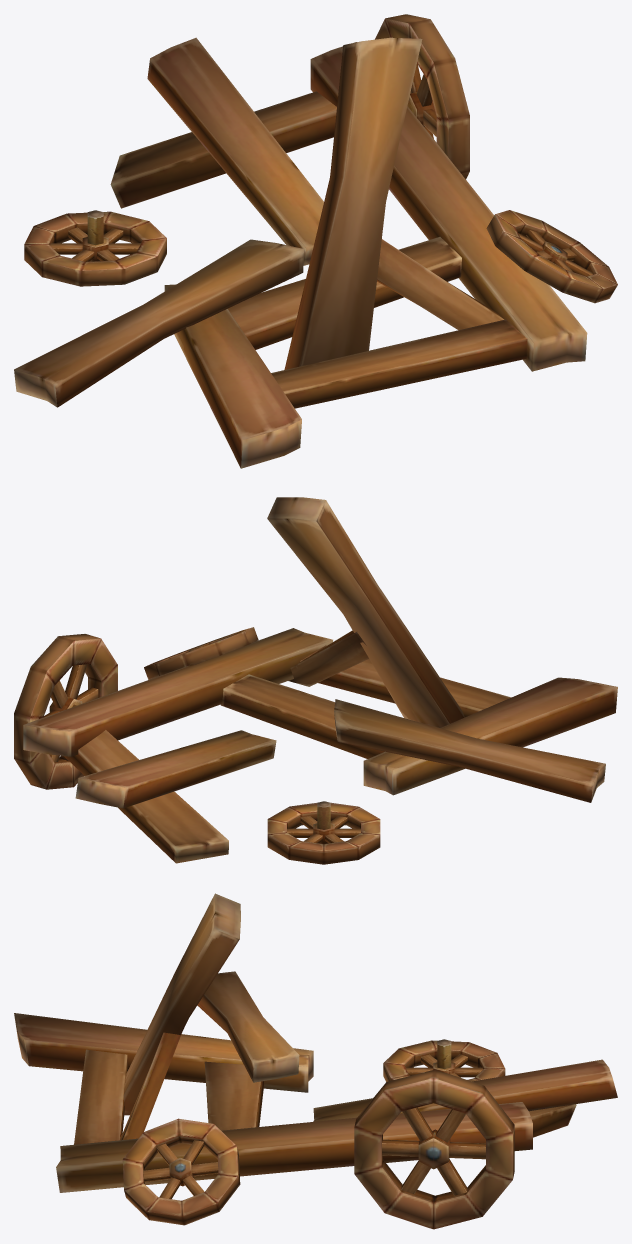
The model's file is FH_Env_obj_11.FBX.
The picture shows the model from 3 angles, top to bottom: view 1: azimuth 30°, elevation 25°; view 2: azimuth 150°, elevation 25°; view 3: azimuth 270°, elevation 25°; orthographic projection. The views are drawn at different scales.
Visible parts, largest first — view 1: Che_01, Object16, Object17, Object13, Object15, Object14; view 2: Che_01, Object17, Object16, Object15, Object13, Object14; view 3: Che_01, Object15, Object17, Object16, Object14, Object13.
Boxes of the visible parts, x1,y1,x2,y2 form: Che_01: [110, 37, 587, 408]; Object16: [284, 37, 504, 369]; Object17: [14, 239, 303, 468]; Object13: [24, 210, 166, 286]; Object15: [375, 14, 469, 179]; Object14: [486, 210, 617, 303]; Che_01: [23, 628, 511, 863]; Object17: [334, 677, 617, 802]; Object16: [267, 497, 464, 727]; Object15: [14, 634, 117, 789]; Object13: [267, 801, 380, 864]; Object14: [144, 627, 258, 679]; Che_01: [56, 1049, 617, 1192]; Object15: [354, 1069, 514, 1229]; Object17: [14, 971, 313, 1092]; Object16: [120, 893, 240, 1140]; Object14: [122, 1118, 240, 1225]; Object13: [383, 1039, 505, 1081].
Size of the model in its own units: 84.04 by 42.32 by 91.23.
